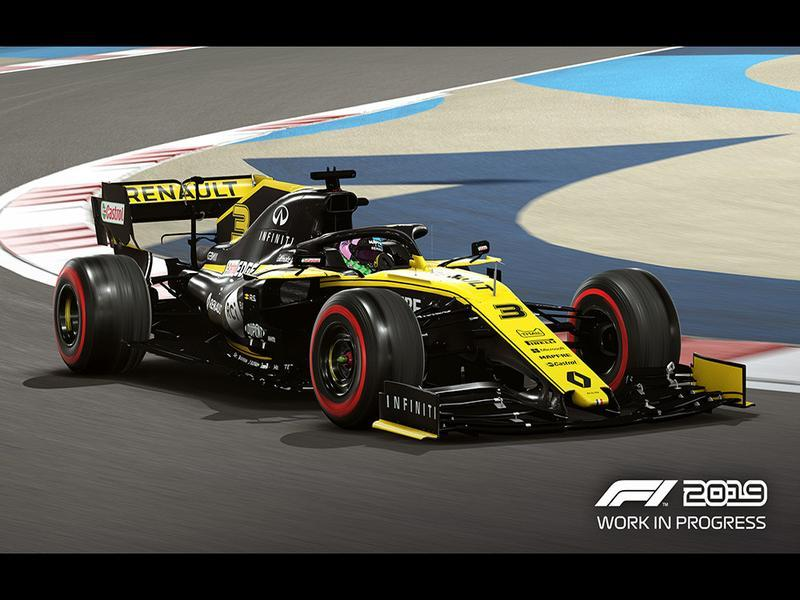f1: (53, 158, 755, 442)
